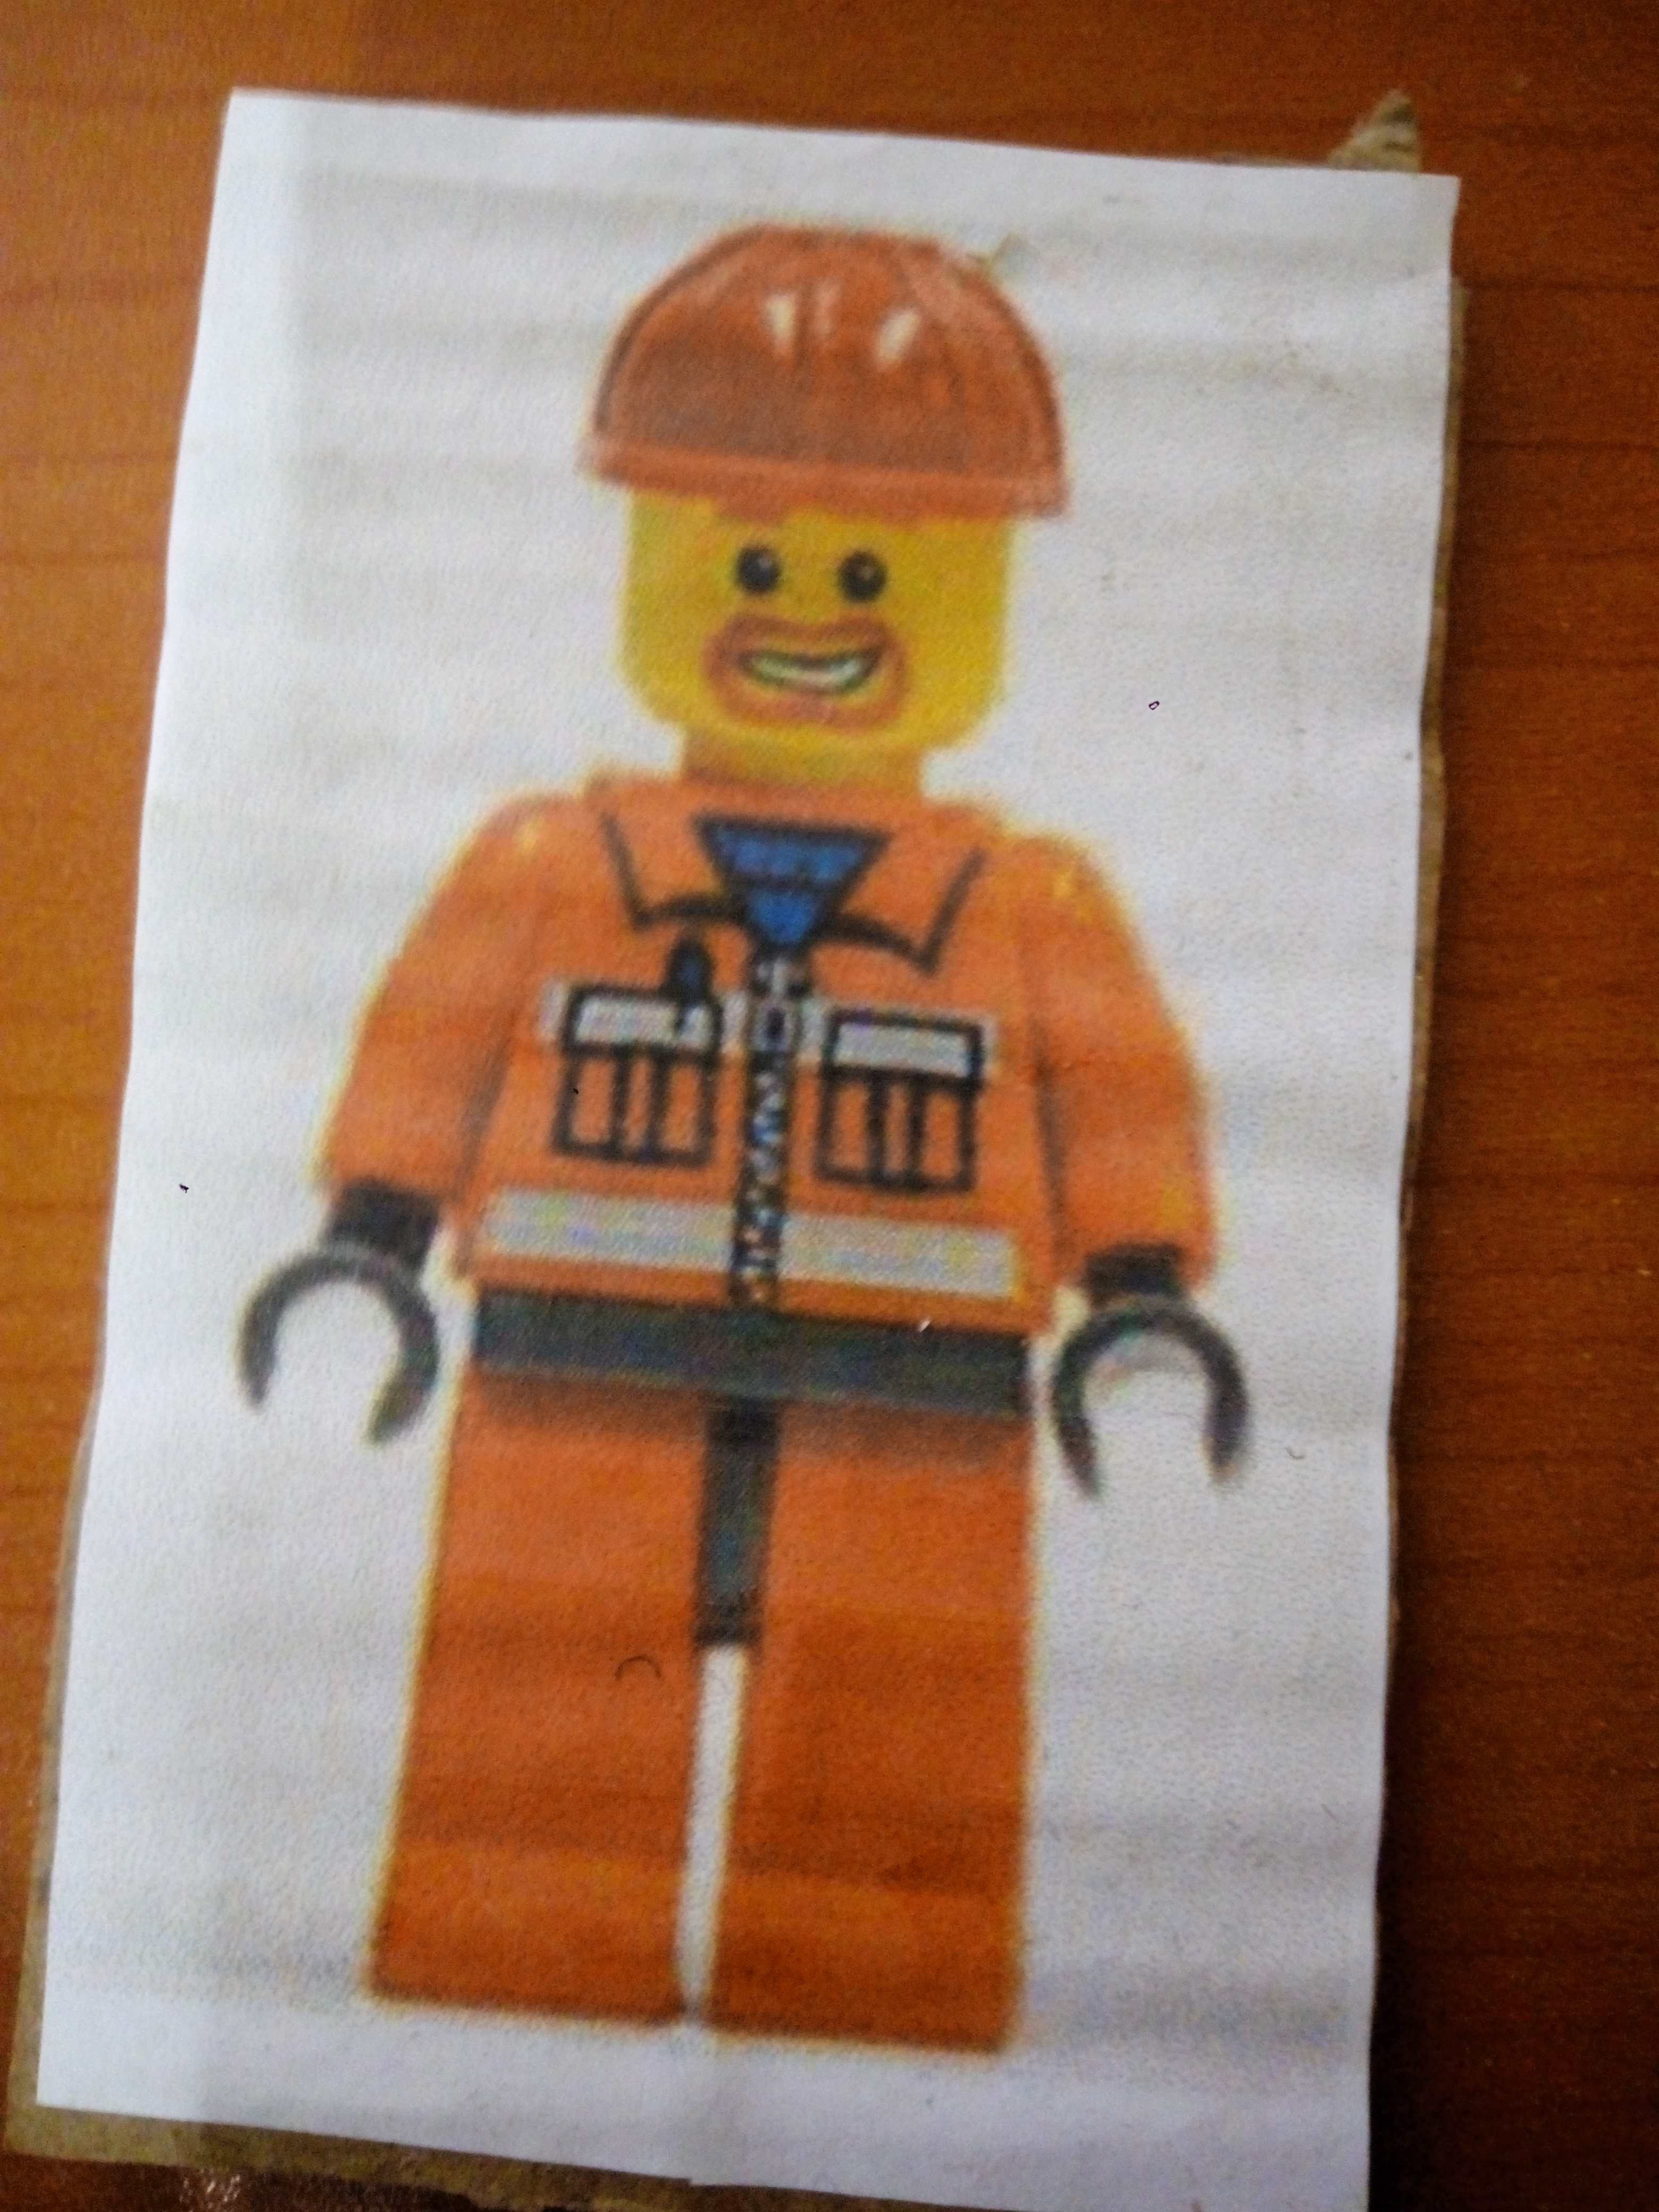pedestrian: (232, 170, 1292, 2116)
